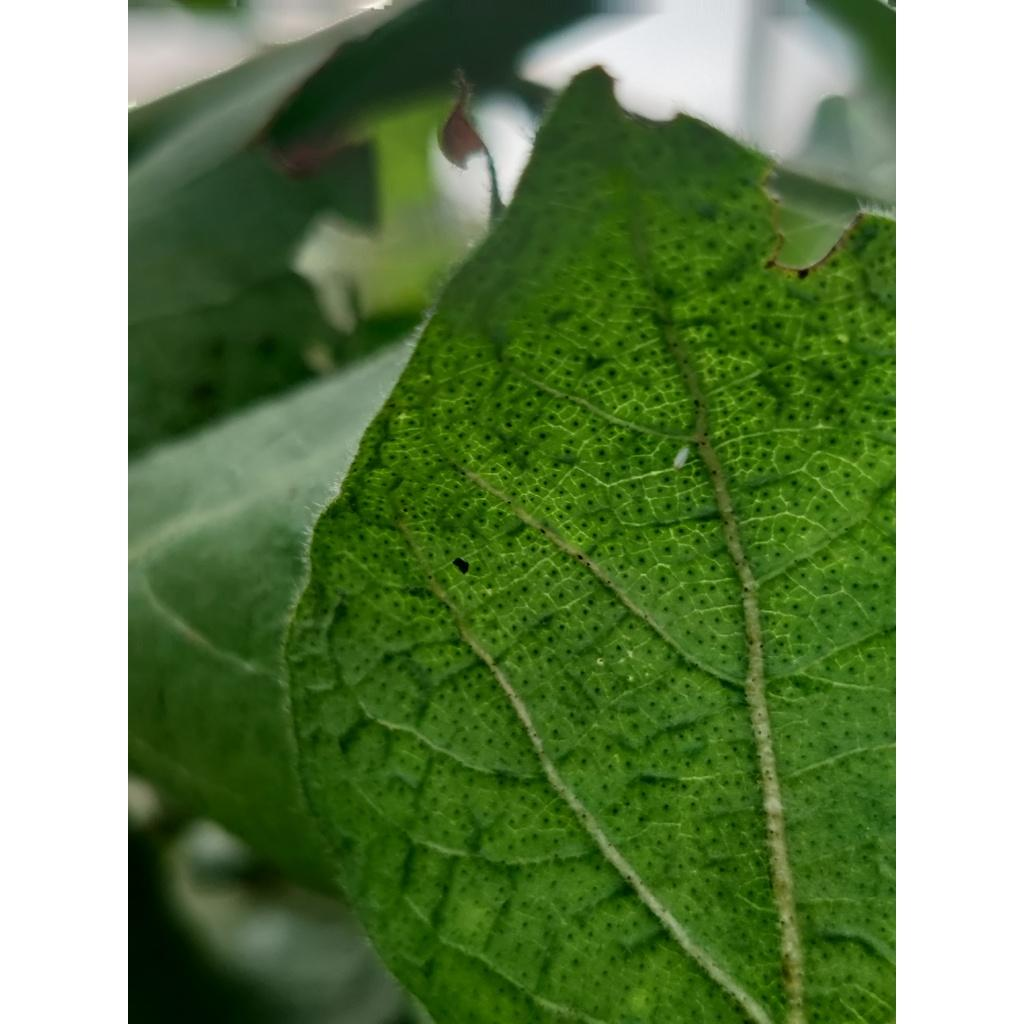adult: (672, 446, 689, 469)
